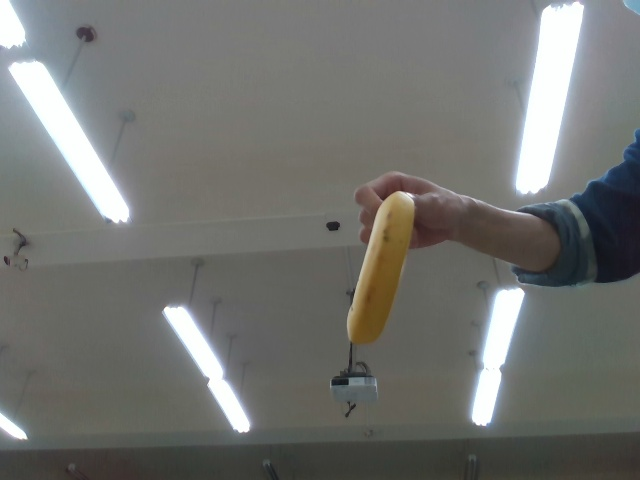banana: (344, 188, 417, 346)
